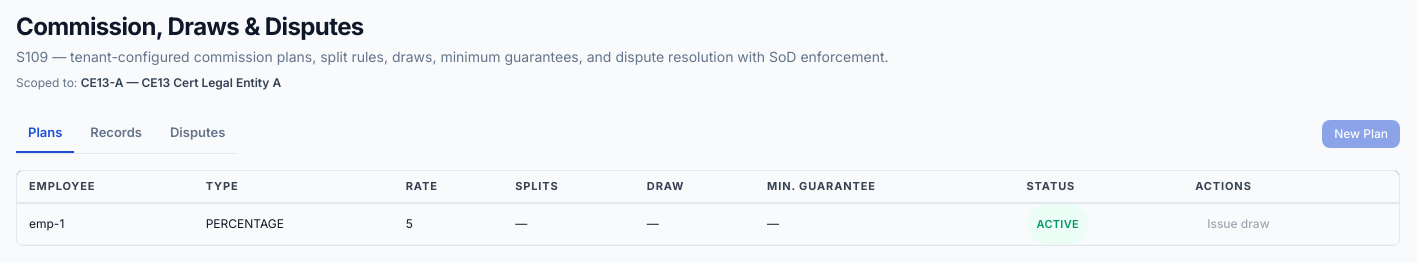
PayrollCommissionWorkbench — unauthorized UI reflection (CE-13 RBAC gap-closure) › disables commission-manage and dispute-resolve actions when the corresponding permission is absent
This screenshot has width=1417, height=263.
Expected: the table with test id "commission-plans-table" is shown, [17,170,1399,244]
Expected: the button with test id "commission-new-plan-btn" is disabled, [1322,120,1400,148]
Click the button with test id "commission-tab-records": (116, 134) [78,115,154,152]
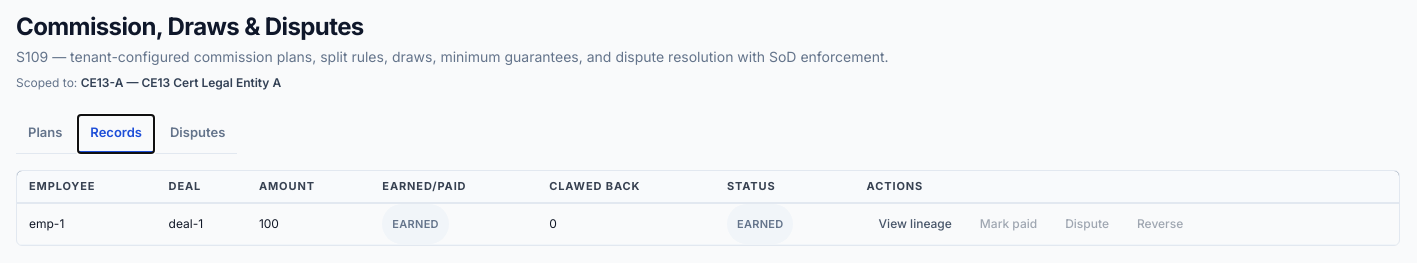
Now the table with test id "commission-records-table" is shown, box [17,170,1399,244]
Now the button with test id "commission-record-mark-paid-rec-1" is disabled, box [968,210,1049,238]
Now the button with test id "commission-record-reverse-rec-1" is disabled, box [1125,210,1195,238]
Click the button with test id "commission-tab-disputes": (198, 134) [158,115,237,152]
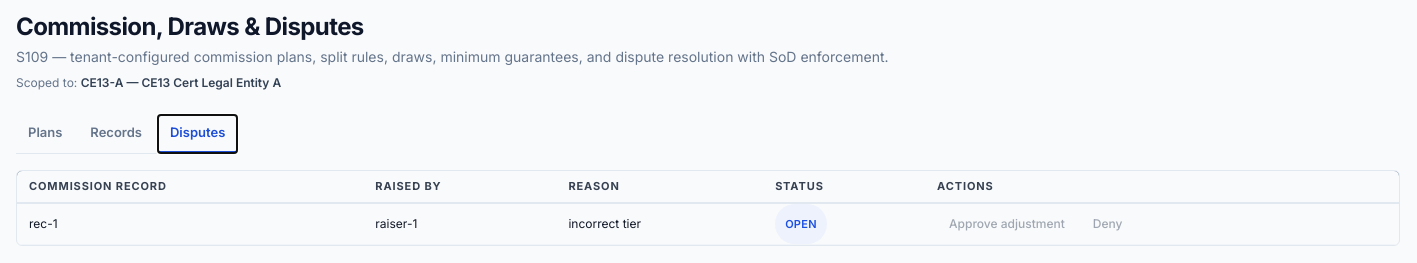
Now the table with test id "commission-disputes-table" is shown, box [17,170,1399,244]
Now the button with test id "commission-dispute-approve-dispute-1" is disabled, box [937,210,1077,238]
Now the button with test id "commission-dispute-deny-dispute-1" is disabled, box [1081,210,1134,238]
